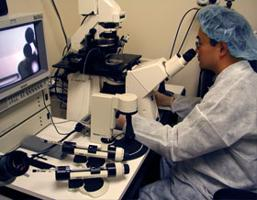person: (113, 5, 257, 200)
